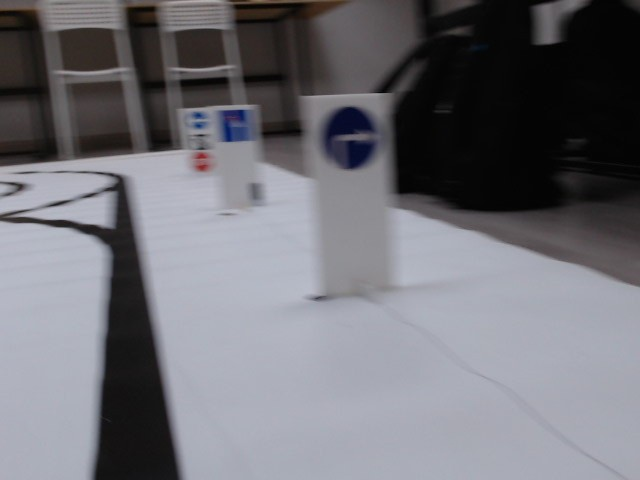Right: (318, 104, 382, 170)
priority_movement: (218, 109, 256, 144)
